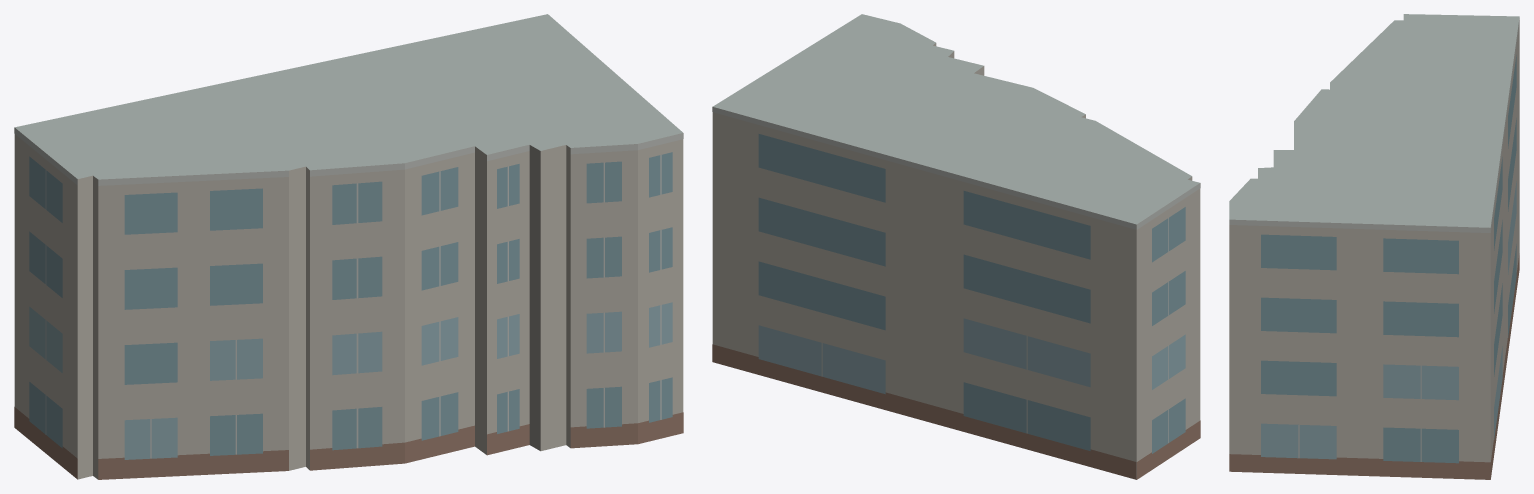
File: survey-upis-32917612.glb
3 renders of one model, left to right at view 1: azimuth 30°, elevation 25°; view 2: azimuth 150°, elevation 25°; view 3: azimuth 270°, elevation 25°, orthographic. The views are drawn at different scales.
Parts seen in each view (by area): view 1: survey-upis-32917612.tmp; view 2: survey-upis-32917612.tmp; view 3: survey-upis-32917612.tmp.
Part boxes in pixels (left/top/right/bottom): survey-upis-32917612.tmp: left=14, top=14, right=683, bottom=479; survey-upis-32917612.tmp: left=712, top=14, right=1200, bottom=479; survey-upis-32917612.tmp: left=1229, top=14, right=1519, bottom=479.
Bounding box in the file's own units: 21.11 × 11.6 × 12.12.
